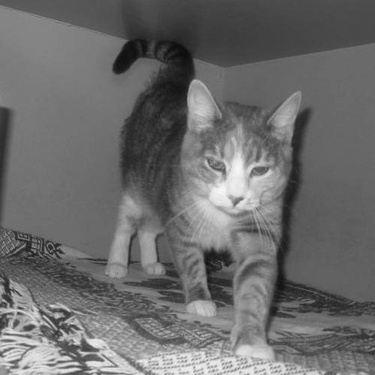cat: (91, 22, 312, 366)
